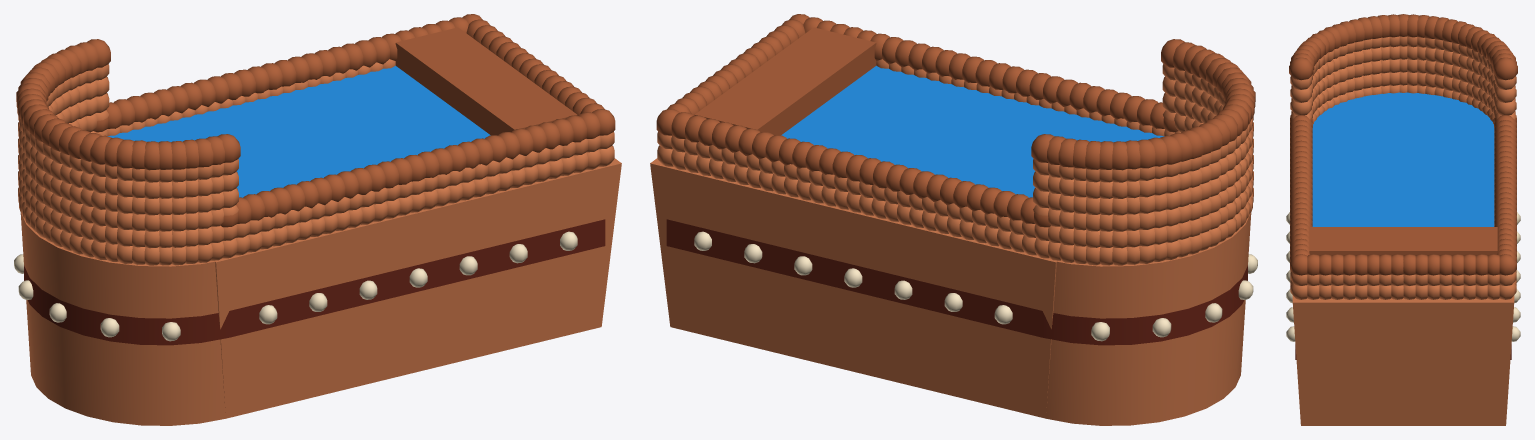
Rendered from bathtub.glb.
3 renders of one model, left to right at view 1: azimuth 30°, elevation 25°; view 2: azimuth 150°, elevation 25°; view 3: azimuth 270°, elevation 25°, orthographic. The views are drawn at different scales.
Visible parts, largest first — view 1: bathtub; view 2: bathtub; view 3: bathtub.
Part boxes in pixels (x1,y1,x2,y2): bathtub: [14, 14, 621, 425]; bathtub: [650, 14, 1257, 425]; bathtub: [1286, 14, 1520, 425].
Bounding box in the file's own units: 1.65 × 0.865 × 0.8221.
